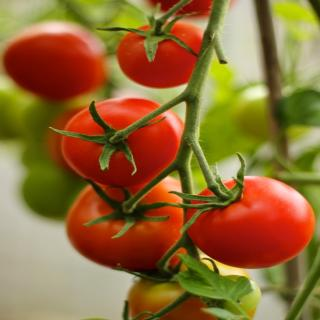tomato: (65, 178, 190, 278), (185, 176, 314, 269), (49, 98, 182, 187), (94, 0, 204, 90), (110, 262, 259, 320), (5, 25, 103, 103), (147, 0, 237, 19)
